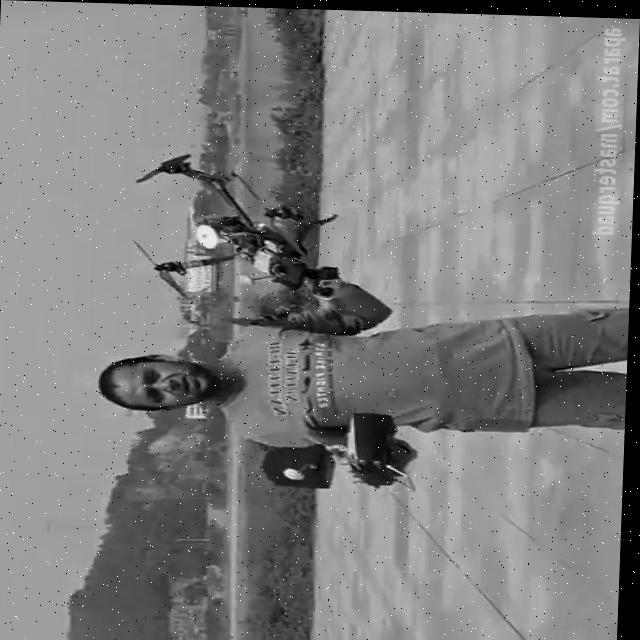drone: (126, 151, 348, 329)
